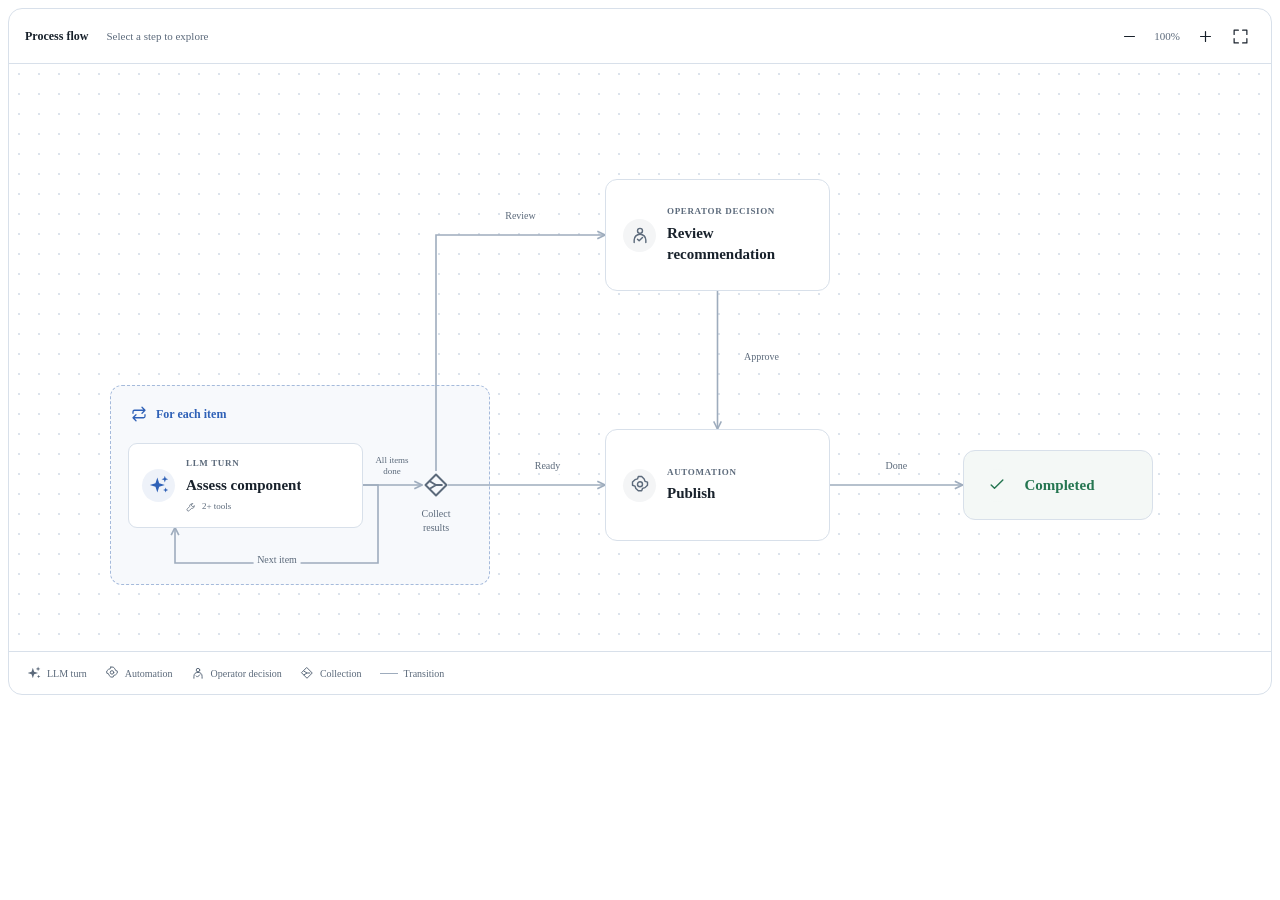
shared workflow graph integration › gives group, item work and collection independent feedback while selected
This screenshot has width=1280, height=900.
Click the button "LLM turn Assess component 2+ tools": (246,485) [128, 442, 363, 528]
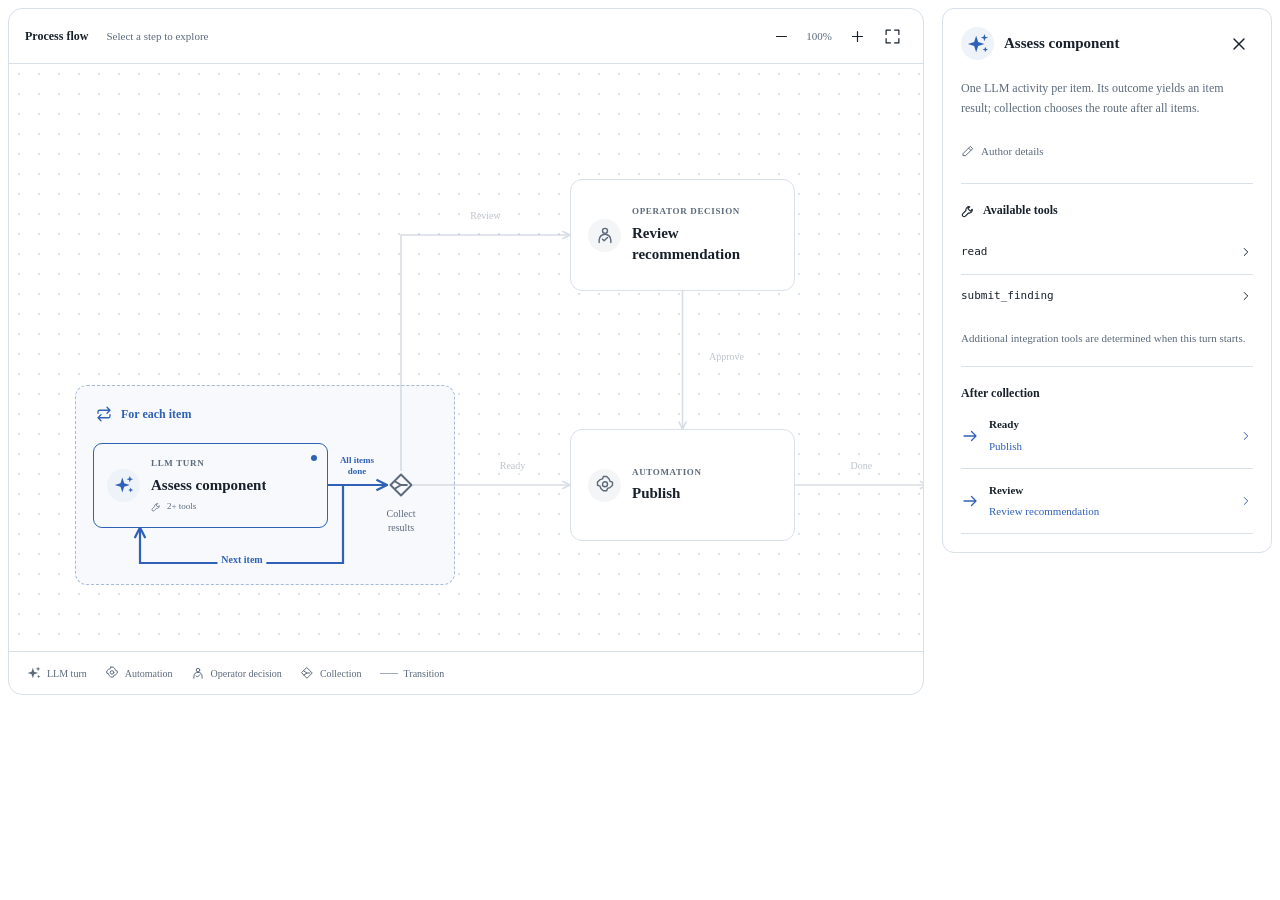
Hover over the button "For each item": (156,414) [75, 385, 455, 585]
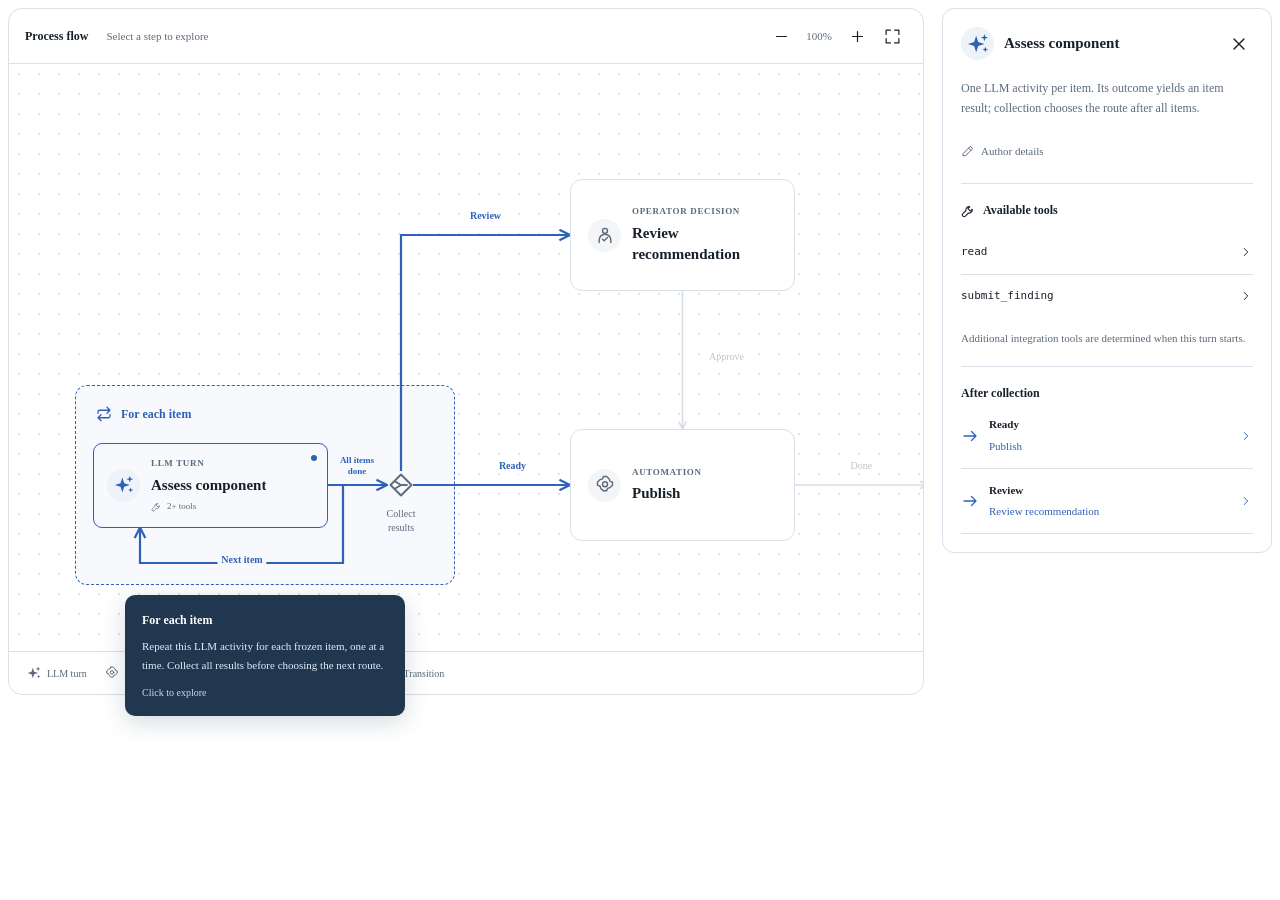
Move the pointer off the button with class "highlighted", box [75, 385, 455, 585]
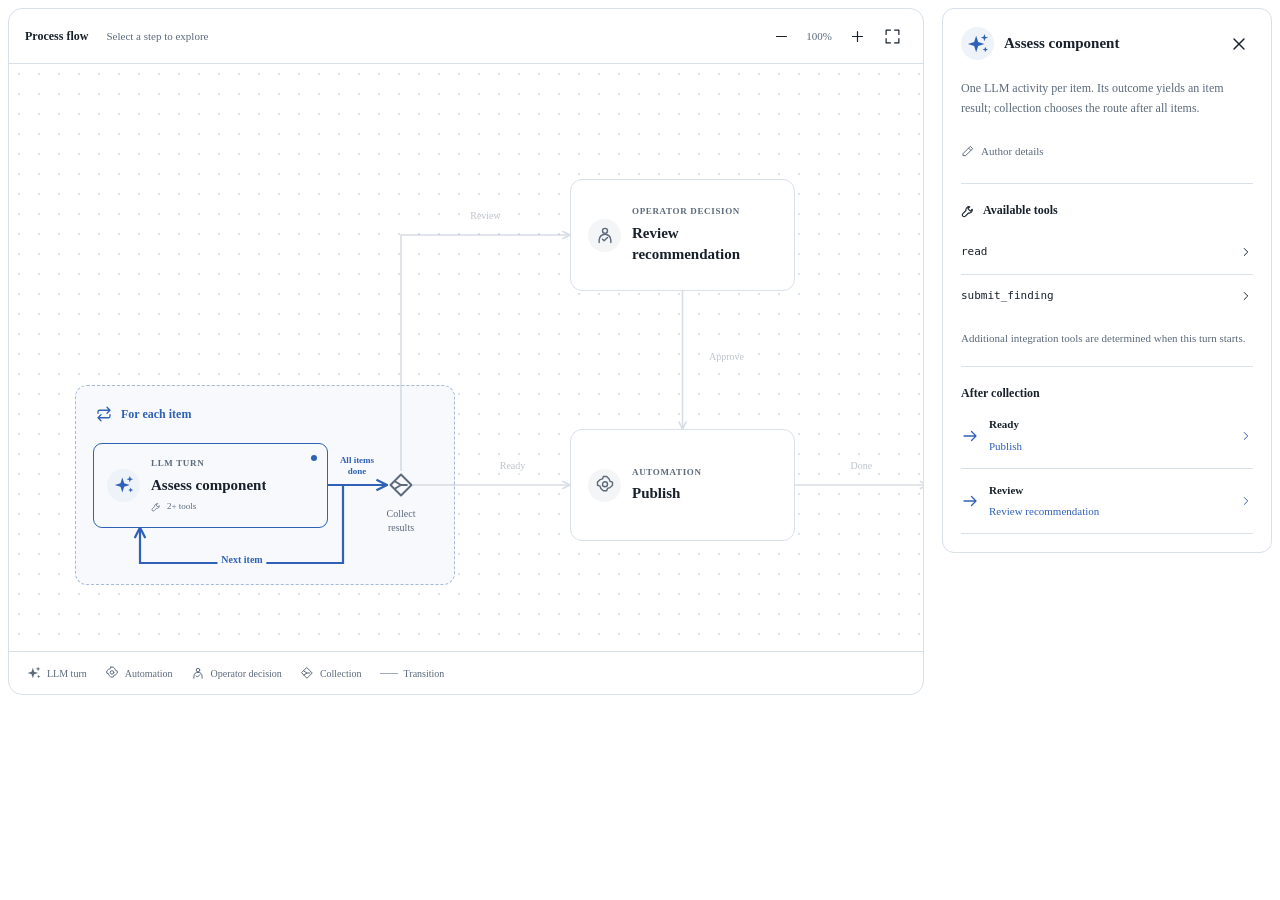
Hover over the button "LLM turn Assess component 2+ tools": (210,485) [93, 442, 328, 528]
Expected: the number of buttons with class "highlighted" is 1, [93, 442, 328, 528]
Hover over the button "Collect results": (401,505) [379, 455, 423, 555]
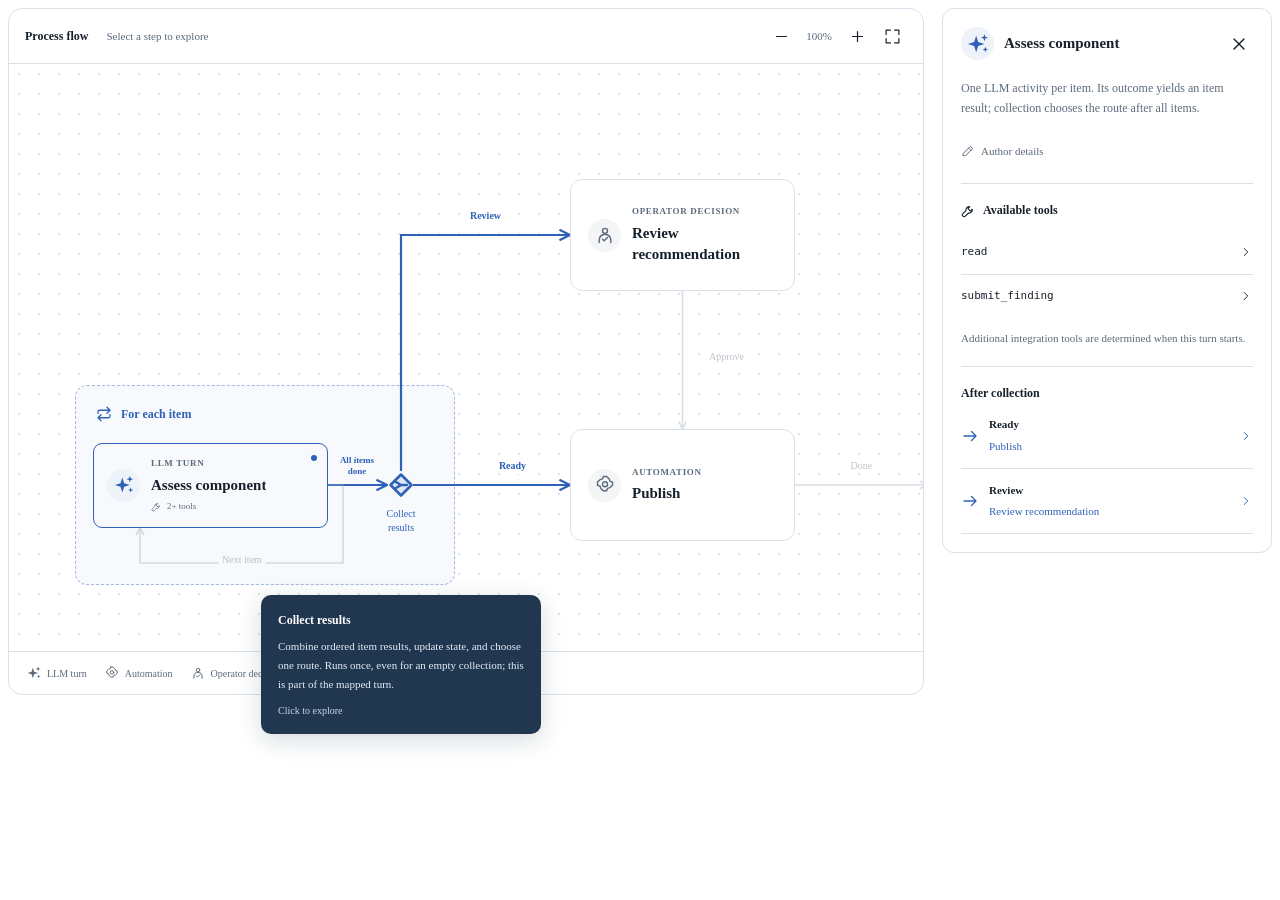
Move the pointer off the button with class "highlighted", box [379, 455, 423, 555]
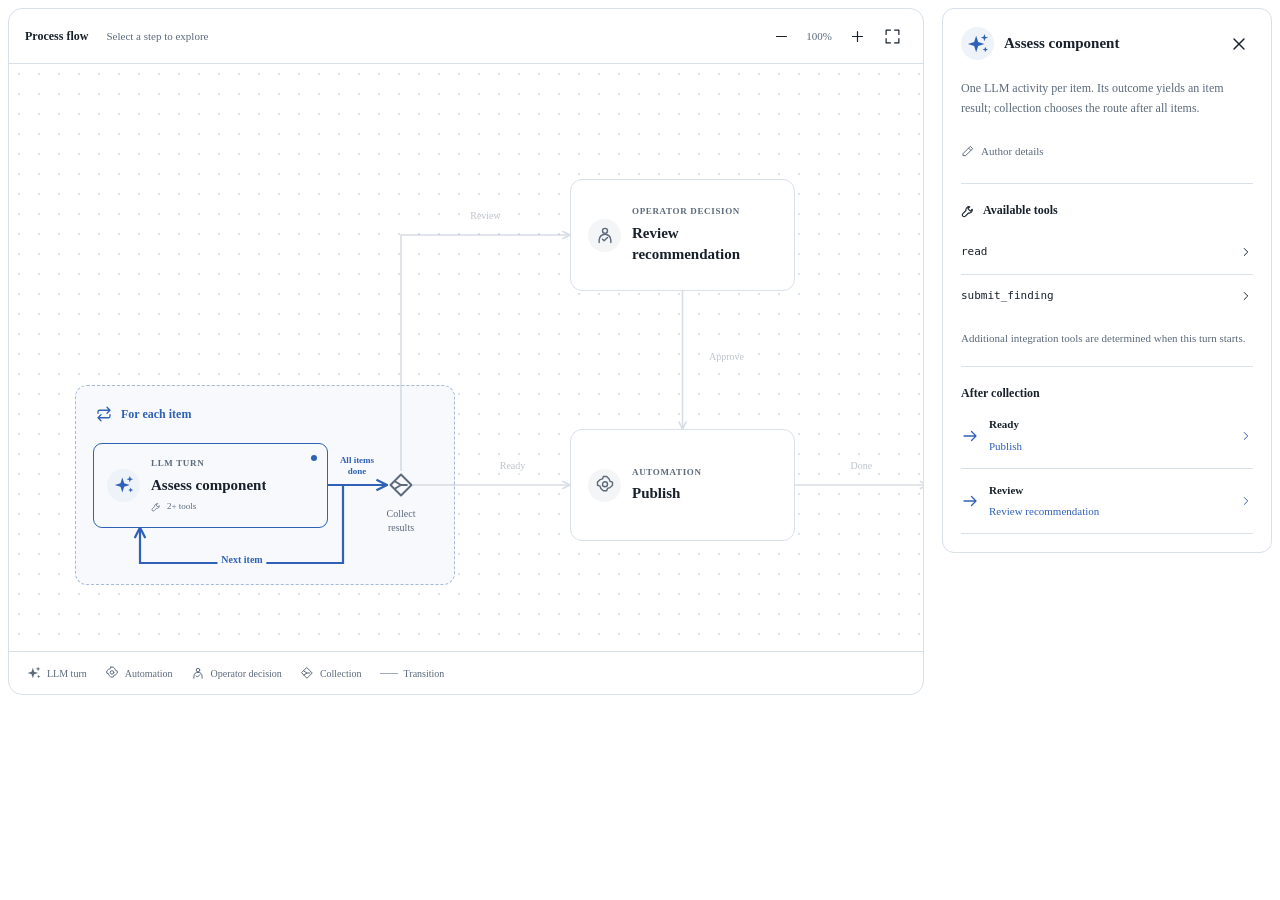
Expected: the button with class "highlighted" has class "chosen", [93, 442, 328, 528]
Click the button with class "highlighted": (401,505) [379, 455, 423, 555]
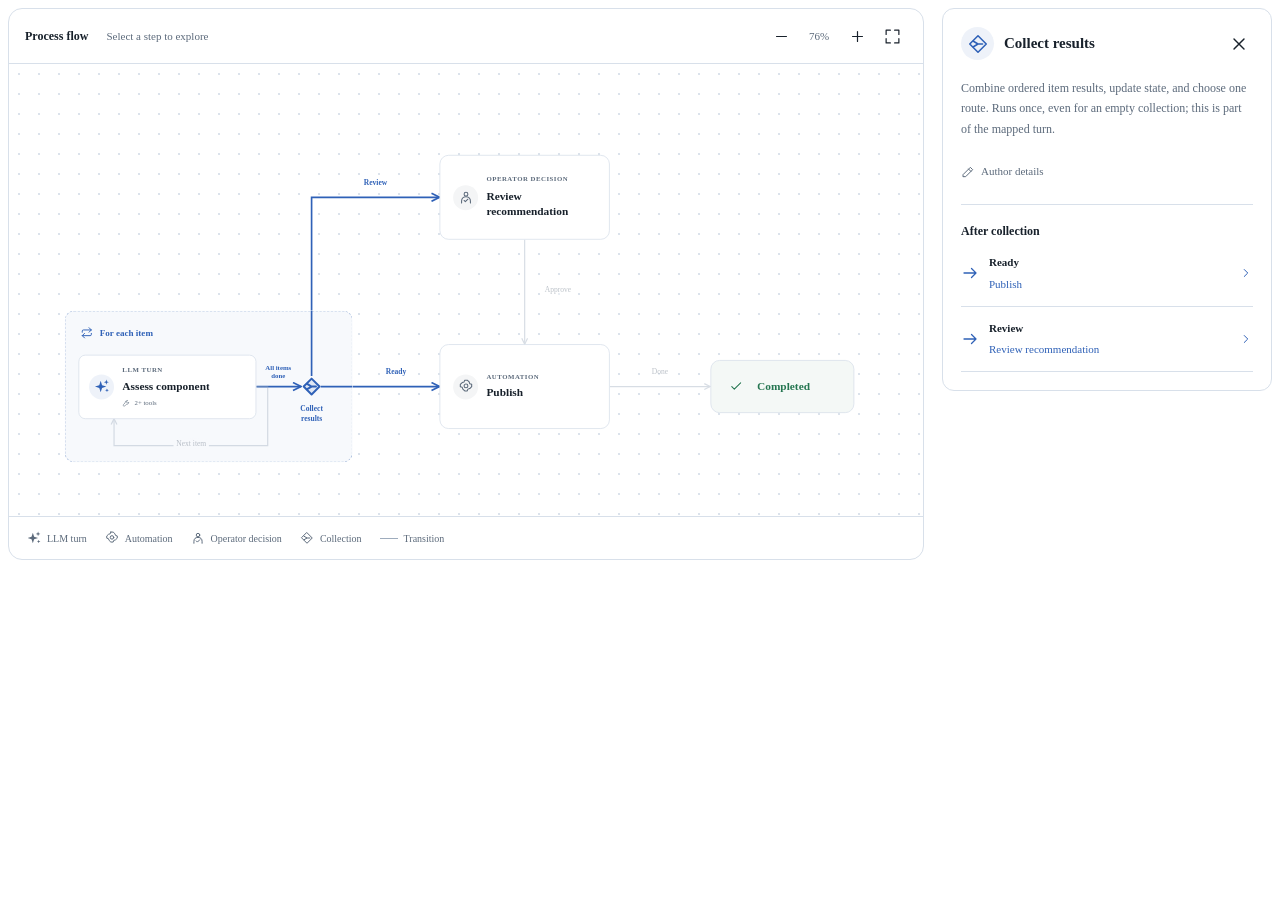
Expected: the heading "Collect results" is shown, [1004, 35, 1095, 51]
Expected: the element with class "available-tools" is gone
Expected: the element with class "step-inspector" shows "empty collection", [961, 81, 1246, 136]
